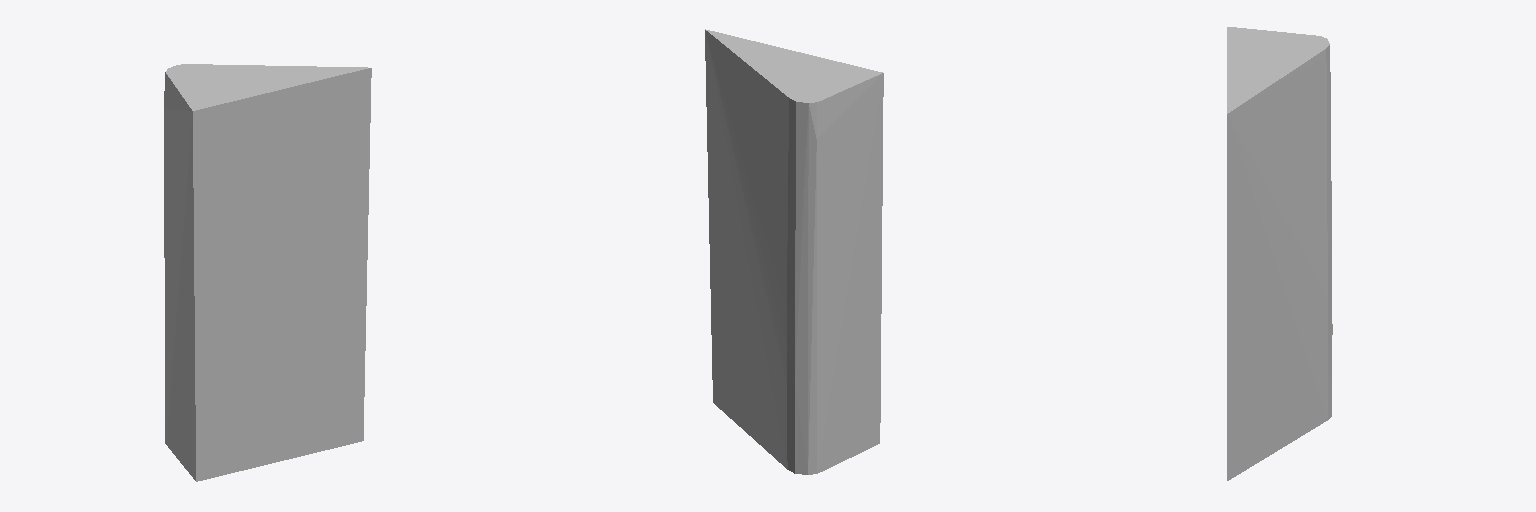
File: box_long_brown_M_collision_5.obj
3 renders of one model, left to right at view 1: azimuth 30°, elevation 25°; view 2: azimuth 150°, elevation 25°; view 3: azimuth 270°, elevation 25°, orthographic.
Bounding box in the file's own units: 0.0202 × 0.0401 × 0.0103.